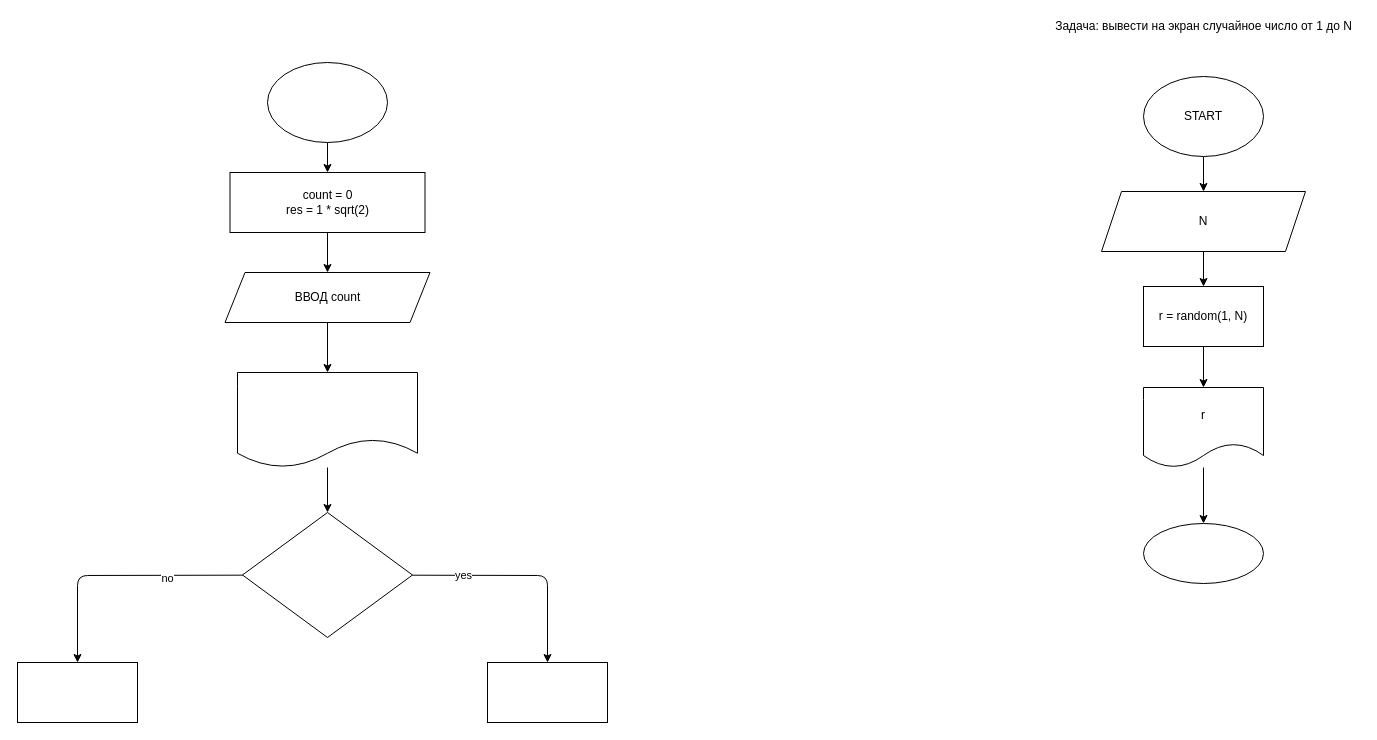
This 1377x740 diagram has some shape labels left out. Each missing label, with the box of its shape:
END: (1142, 522, 1264, 584)
Start End: (266, 62, 388, 142)
ВЫВОД res: (236, 372, 418, 468)
